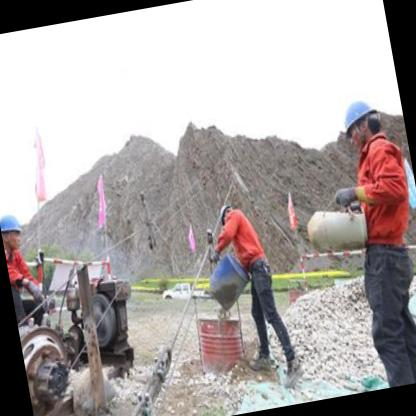helmet: (334, 89, 385, 159), (1, 208, 30, 256), (215, 201, 237, 233)
